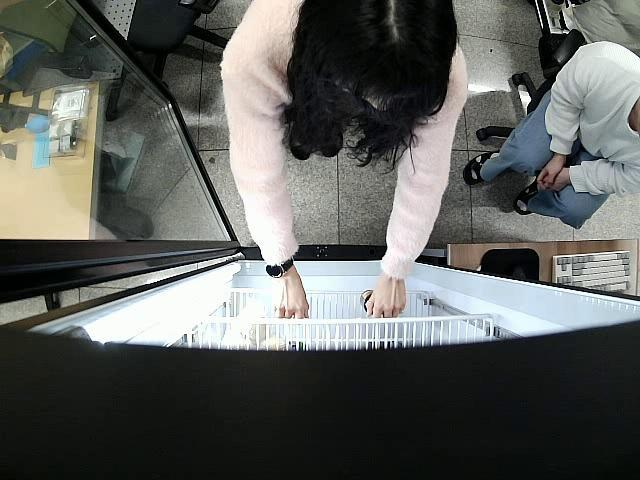17_vita500: (359, 288, 373, 310)
